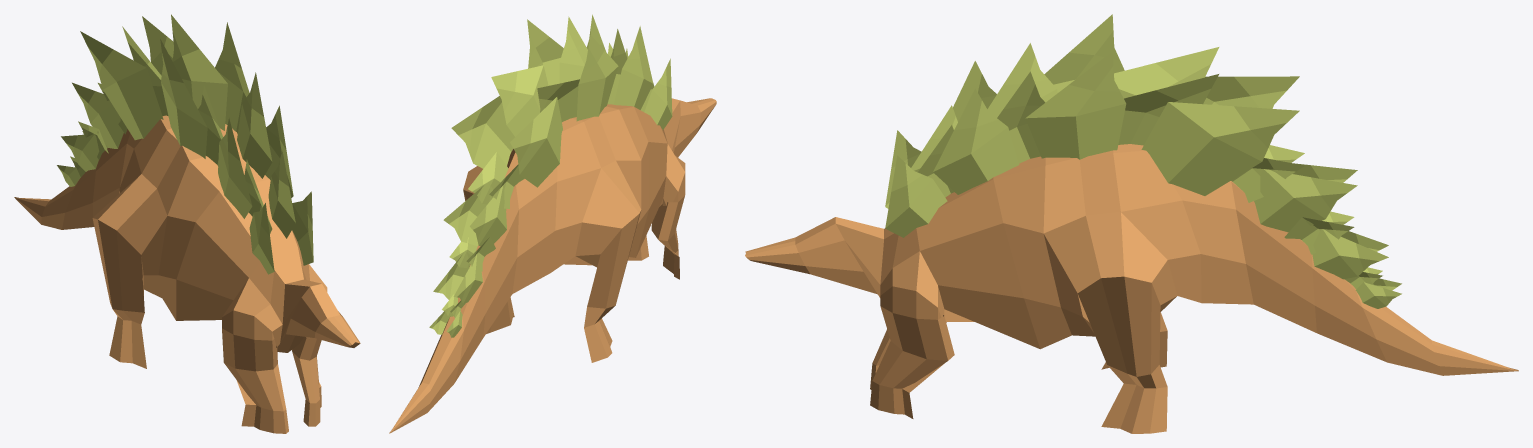
File: dinosaure.glb
3 views of the same model, side by side, from view 1: azimuth 30°, elevation 25°; view 2: azimuth 150°, elevation 25°; view 3: azimuth 270°, elevation 25° (orthographic). The views are drawn at different scales.
Parts seen in each view (by area): view 1: Plan; view 2: Plan; view 3: Plan.
Part boxes in pixels (x1=…): Plan: x1=14, y1=14, x2=360, y2=433; Plan: x1=389, y1=14, x2=716, y2=433; Plan: x1=745, y1=14, x2=1518, y2=433.
Size of the model in its own units: 1.95 by 3.32 by 6.36.
